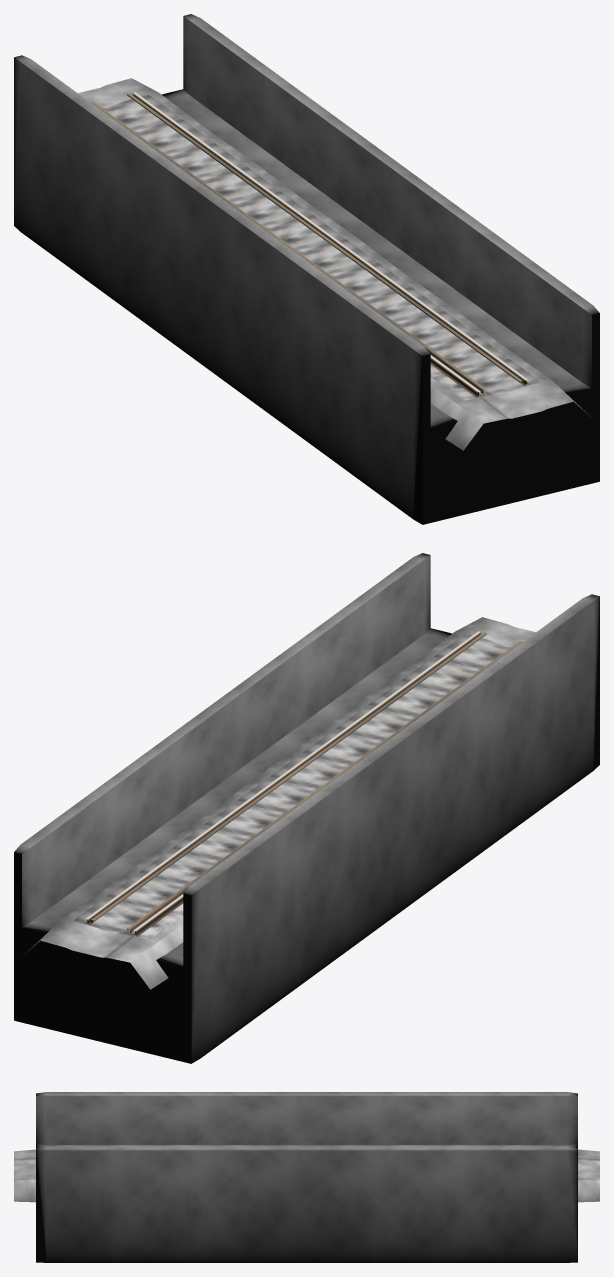
Rendered from NK_1RAIL_50_WALL.glb.
3 renders of one model, top to bottom at view 1: azimuth 30°, elevation 25°; view 2: azimuth 150°, elevation 25°; view 3: azimuth 270°, elevation 25°, orthographic. The views are drawn at different scales.
Parts seen in each view (by area): view 1: obj2, R000_RG_L1, R000_RG_R1; view 2: obj2, R000_RG_L1, R000_RG_R1; view 3: obj2.
Boxes of the visible parts, box(x1,y1,x2,y2) form: obj2: box(14, 14, 599, 524); R000_RG_L1: box(127, 93, 522, 382); R000_RG_R1: box(91, 102, 486, 393); obj2: box(14, 553, 599, 1063); R000_RG_L1: box(91, 632, 486, 923); R000_RG_R1: box(127, 641, 522, 933); obj2: box(14, 1092, 599, 1262).
Bounding box in the file's own units: 13.23 × 11.93 × 56.25.
Materials: 7 (7 with a texture image).
